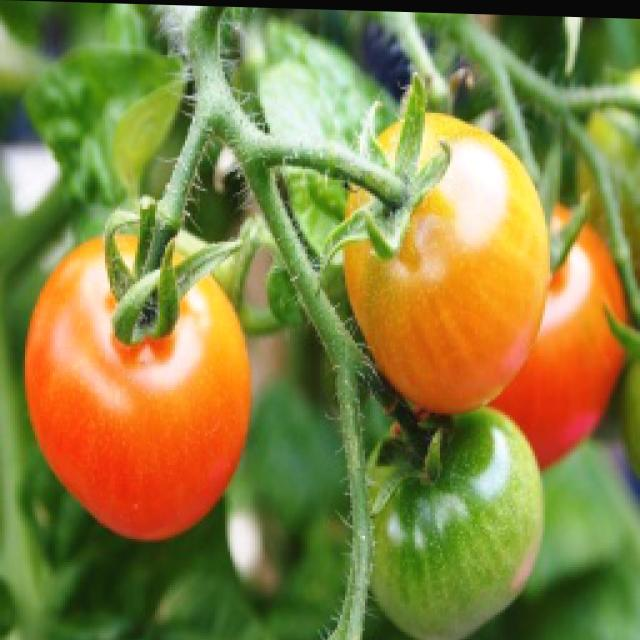tomato: (28, 233, 248, 546), (337, 104, 553, 415), (490, 219, 632, 472)
